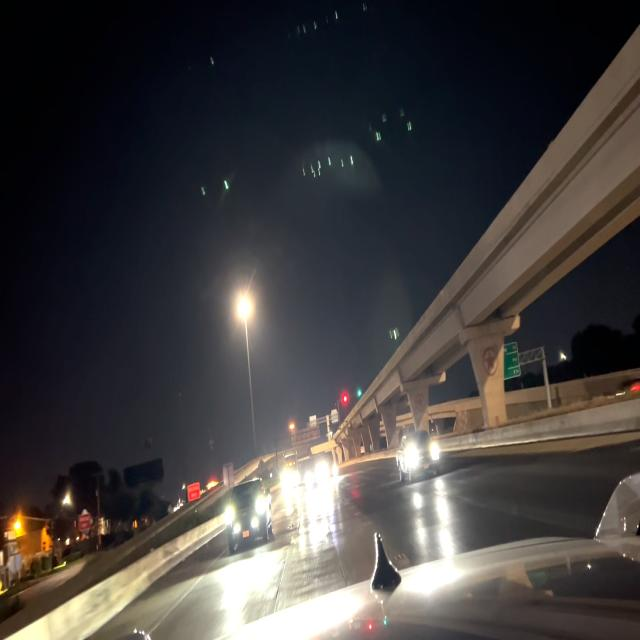back-of-sign: (291, 422, 323, 448), (221, 459, 235, 490)
